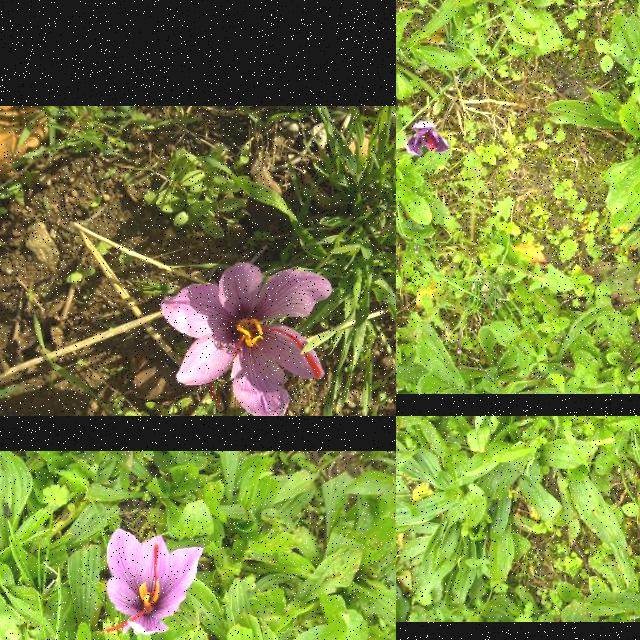flower: (161, 264, 333, 416), (106, 528, 204, 636), (405, 121, 451, 157)
